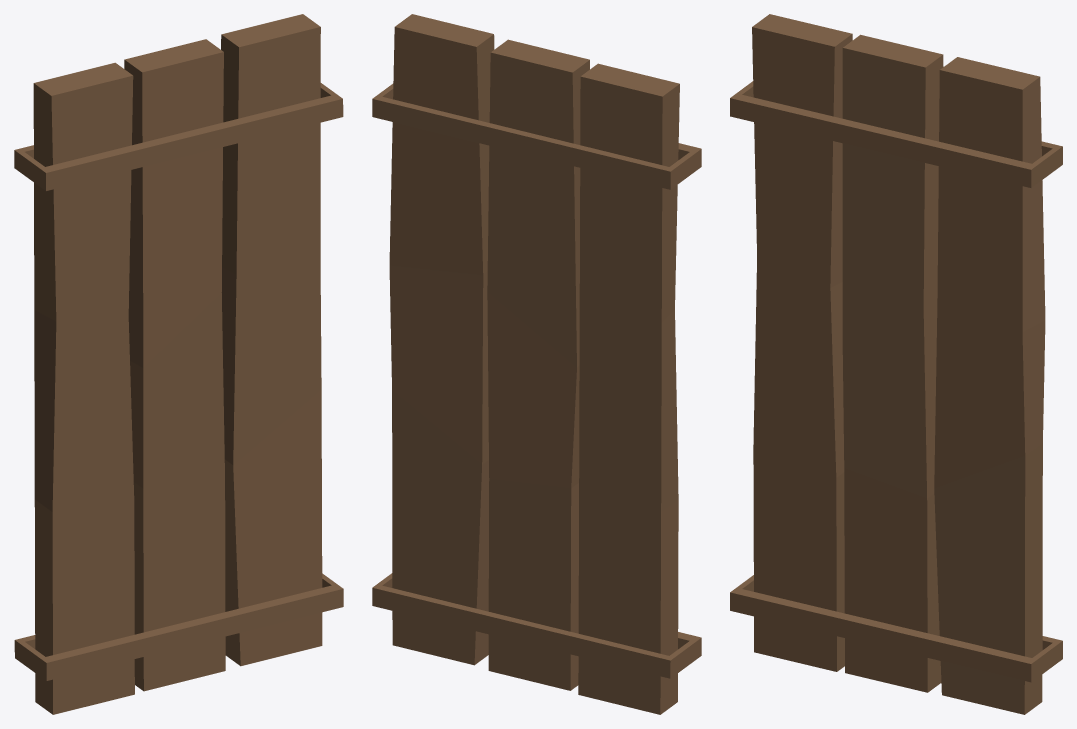
The model's file is Door_low.fbx.
3 renders of one model, left to right at view 1: azimuth 30°, elevation 25°; view 2: azimuth 150°, elevation 25°; view 3: azimuth 330°, elevation 25°, orthographic.
Parts seen in each view (by area): view 1: Door; view 2: Door; view 3: Door.
Part boxes in pixels (x1=…): Door: x1=14, y1=14, x2=343, y2=714; Door: x1=372, y1=14, x2=701, y2=714; Door: x1=730, y1=14, x2=1062, y2=714.
Bounding box in the file's own units: 1.15 × 2.29 × 0.2169.
